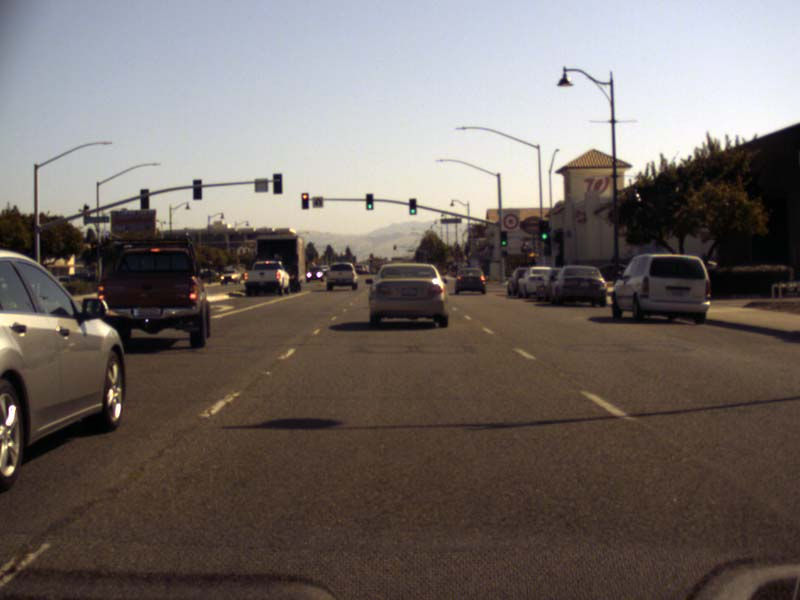Green: (539, 221, 547, 239), (409, 199, 415, 214), (366, 194, 372, 208), (501, 232, 506, 246)
Red: (302, 193, 307, 208)
